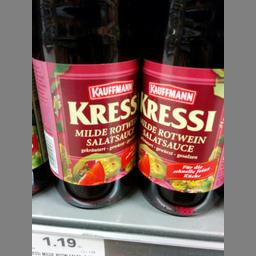vinegar: (30, 0, 136, 208), (140, 0, 226, 216)
